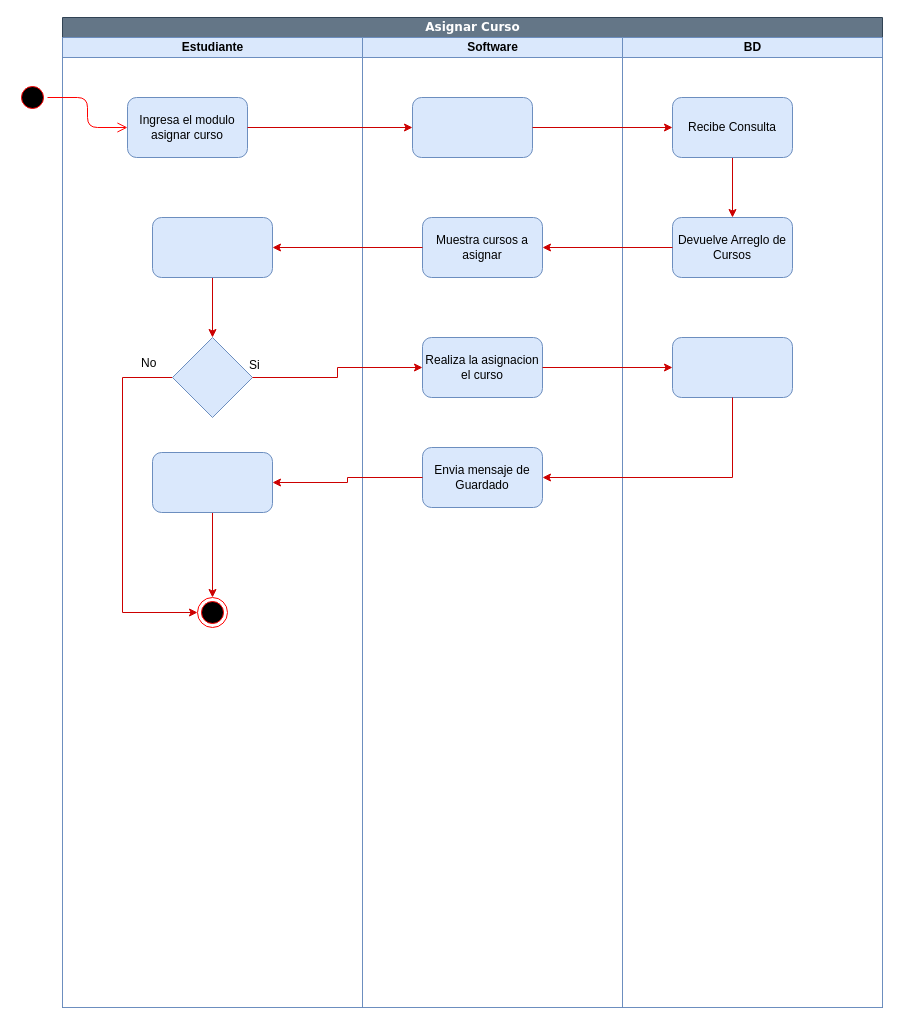
The diagram is 900 pixels wide and 1025 high, and some of its shapes have lost their labels. The shapes that lost their labels are listed below. From the top down, each one's centre as x and y in pixels, then its label:
At (472,127): "Consulta Cursos Disponibles del semestre".
At (212,247): "Visualiza cursos".
At (212,377): "Elije Curso?".
At (732,367): "Guarda asignación".
At (212,482): "Visualiza el mensaje".
